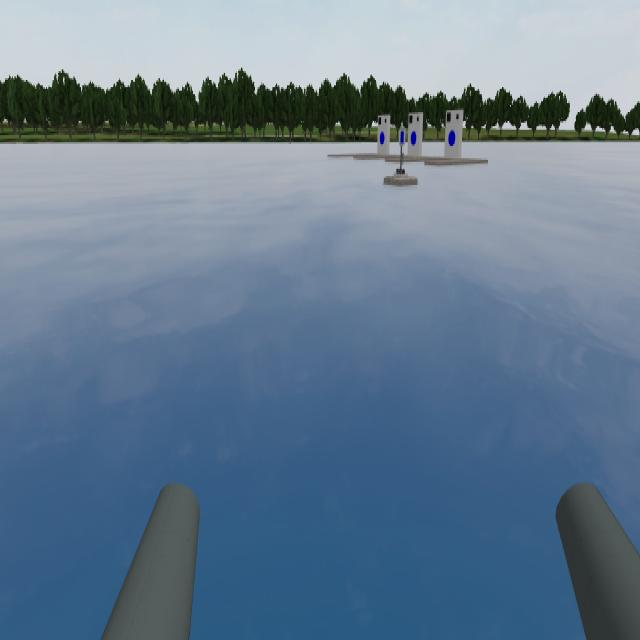blue_pole: (395, 116, 410, 156)
